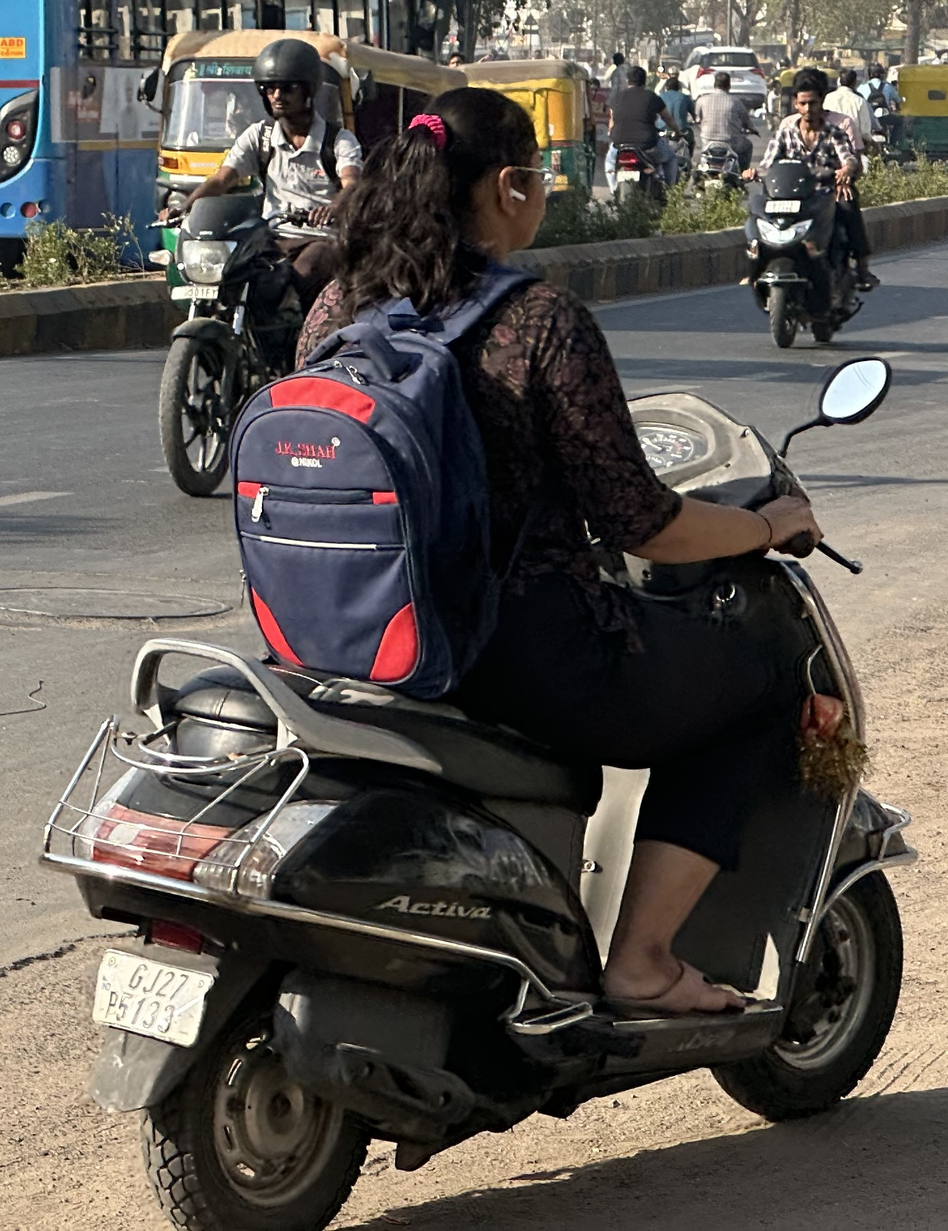BikeWithRider: (27, 69, 948, 1231), (118, 24, 465, 505), (702, 42, 898, 363)
Helmet: (240, 32, 342, 123)
NoHelmet: (382, 86, 572, 275), (775, 67, 847, 131)
